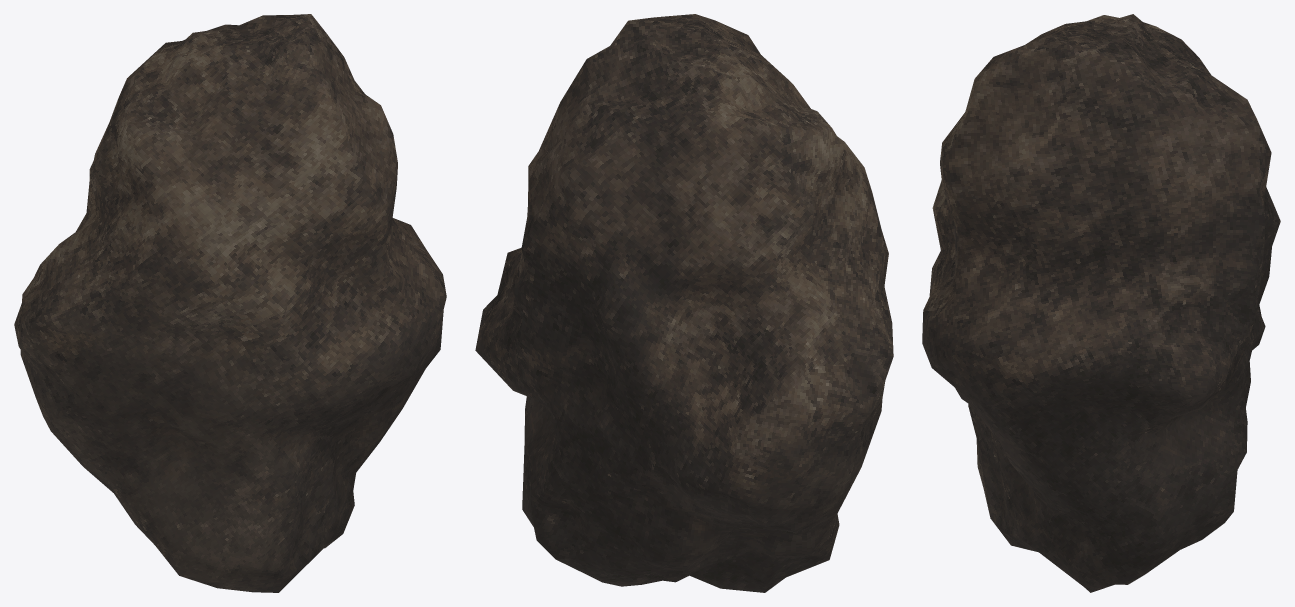
The model's file is SM_RP2_Rock_4m_11.glb.
The picture shows the model from 3 angles, left to right: view 1: azimuth 30°, elevation 25°; view 2: azimuth 150°, elevation 25°; view 3: azimuth 270°, elevation 25°; orthographic projection. The views are drawn at different scales.
Parts seen in each view (by area): view 1: SM_RP2_Rock_4m_11; view 2: SM_RP2_Rock_4m_11; view 3: SM_RP2_Rock_4m_11.
Boxes of the visible parts, left/top/right/bottom form: SM_RP2_Rock_4m_11: left=14, top=14, right=446, bottom=592; SM_RP2_Rock_4m_11: left=475, top=14, right=893, bottom=592; SM_RP2_Rock_4m_11: left=922, top=14, right=1280, bottom=592.
Bounding box in the file's own units: 4.58 × 6.3 × 3.83.
1 material, 1 textured.
